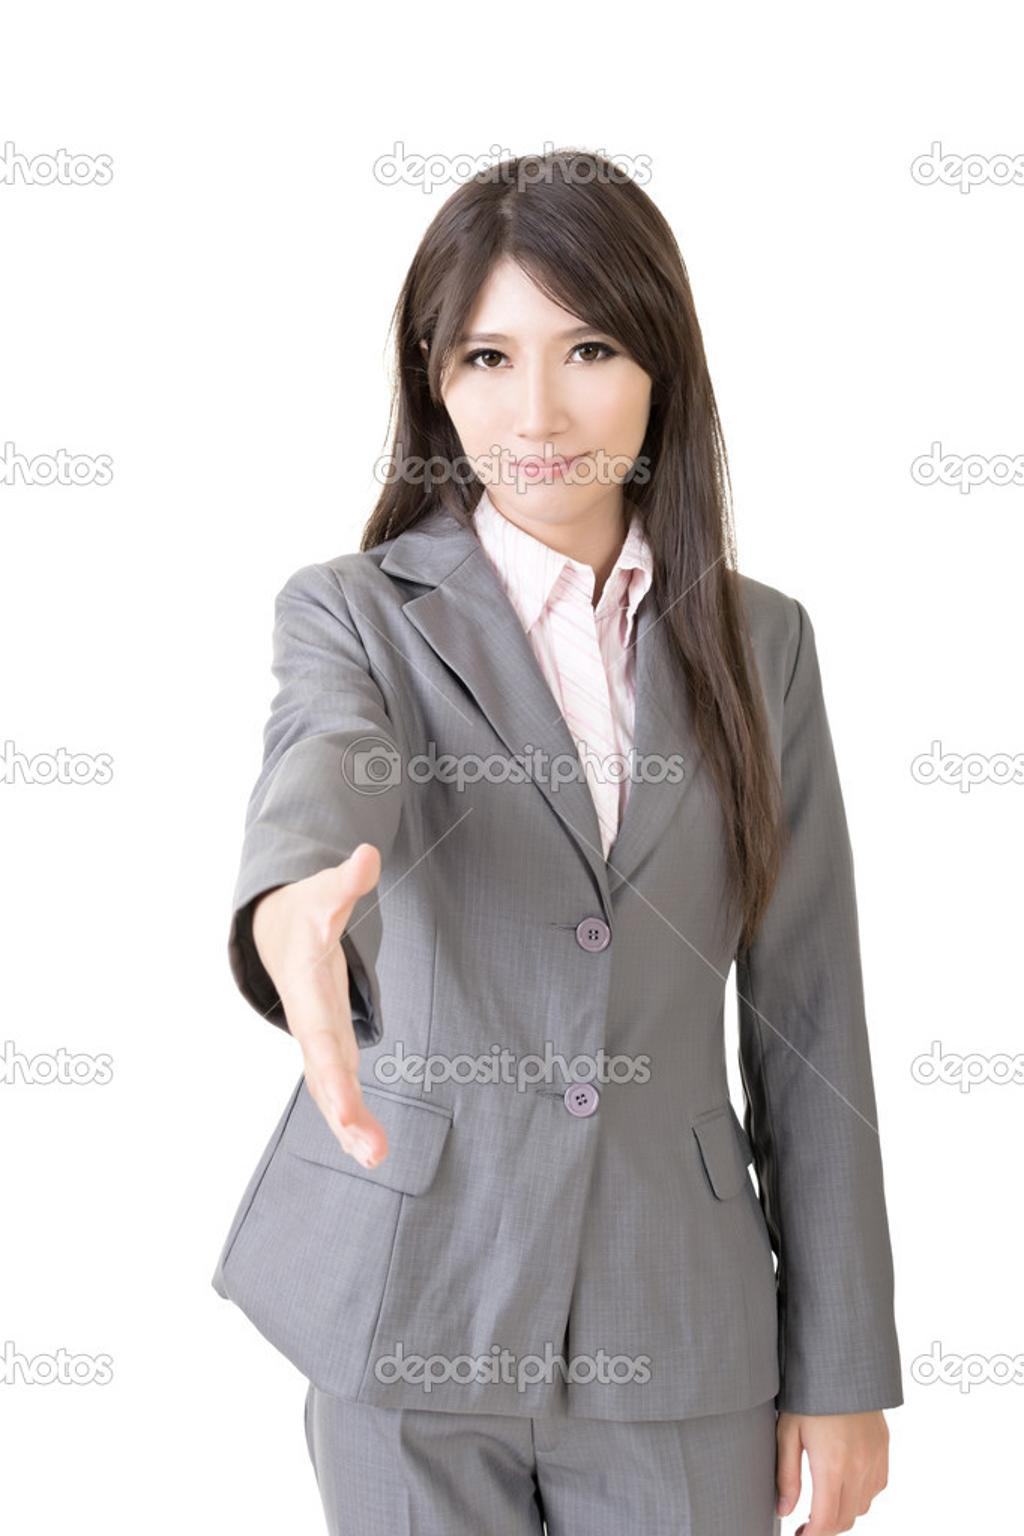face: (432, 210, 654, 522)
